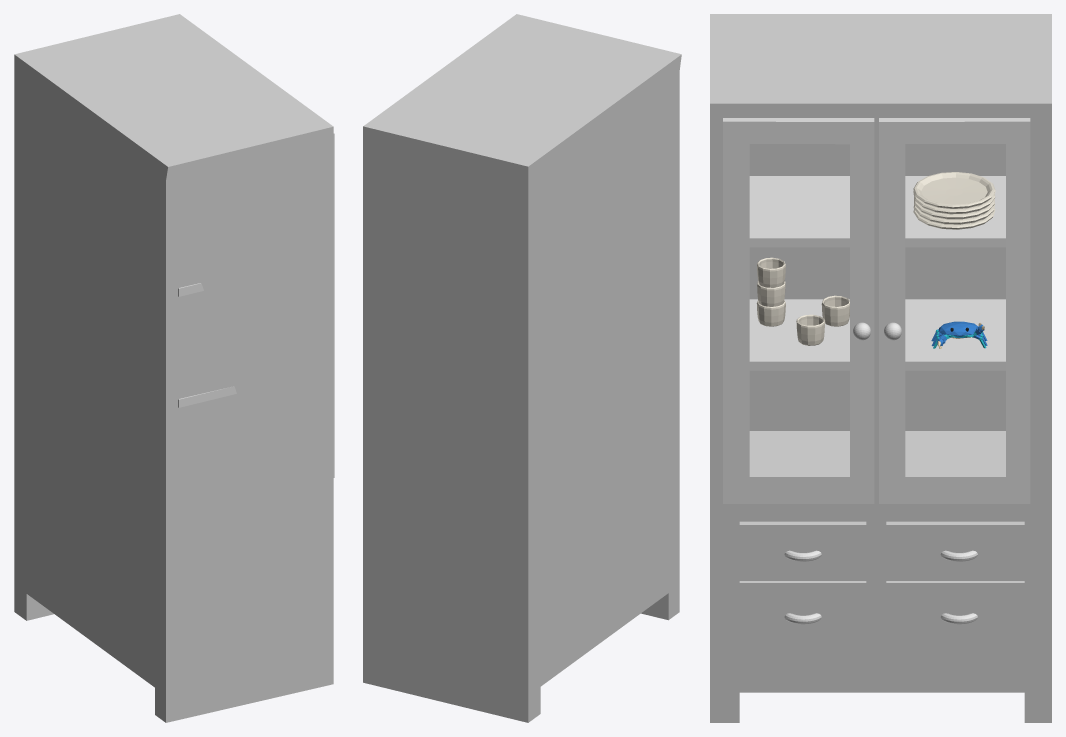
Rendered from Mueble platos .fbx.
3 renders of one model, left to right at view 1: azimuth 30°, elevation 25°; view 2: azimuth 150°, elevation 25°; view 3: azimuth 270°, elevation 25°, orthographic. The views are drawn at different scales.
Parts seen in each view (by area): view 1: Cube, puerta 1, Plane.001; view 2: Cube; view 3: Cube, puerta 1, puerta 2, Plane.001, Plane, Plato_05, Taza_04, Taza_02, Taza_03, Taza_00, Taza_01.
Part boxes in pixels (x1=…): Cube: x1=14, y1=14, x2=333, y2=722; puerta 1: x1=333, y1=133, x2=334, y2=477; Plane.001: x1=178, y1=386, x2=236, y2=407; Cube: x1=363, y1=14, x2=681, y2=722; Cube: x1=710, y1=14, x2=1051, y2=722; puerta 1: x1=723, y1=118, x2=874, y2=503; puerta 2: x1=879, y1=118, x2=1030, y2=503; Plane.001: x1=749, y1=299, x2=1005, y2=370; Plane: x1=749, y1=176, x2=1005, y2=247; Plato_05: x1=913, y1=172, x2=995, y2=208; Taza_04: x1=796, y1=314, x2=824, y2=345; Taza_02: x1=757, y1=257, x2=785, y2=287; Taza_03: x1=821, y1=295, x2=849, y2=326; Taza_00: x1=756, y1=300, x2=785, y2=326; Taza_01: x1=757, y1=281, x2=785, y2=306.
Bounding box in the file's own units: 59.93 × 175 × 87.6.
